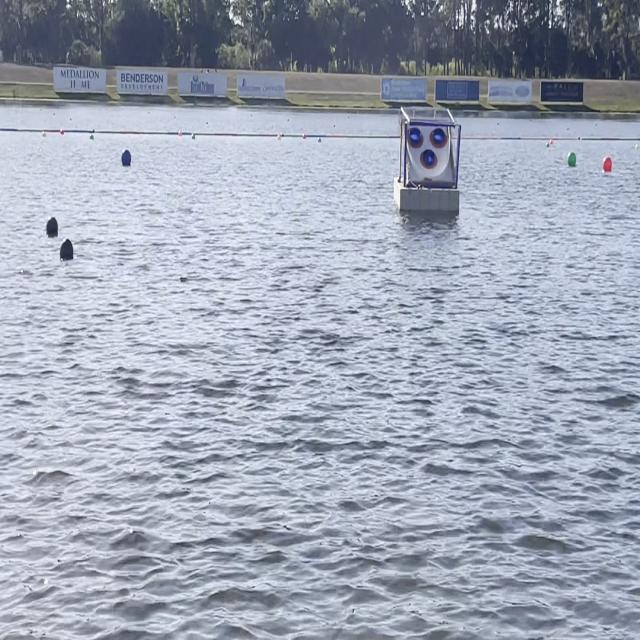buoy: (46, 215, 58, 239), (61, 236, 72, 260), (602, 154, 612, 176), (122, 146, 132, 166), (568, 150, 578, 168)
